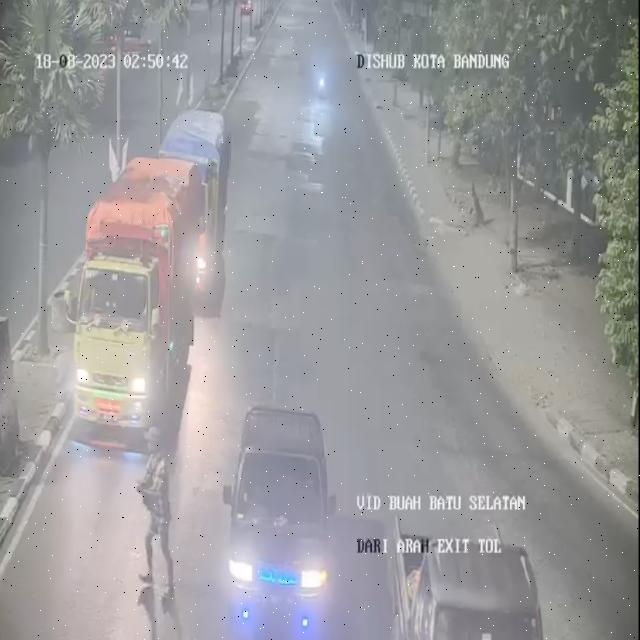cars: (223, 390, 339, 640), (388, 486, 546, 637)
truck: (68, 155, 184, 452), (159, 110, 230, 315)
